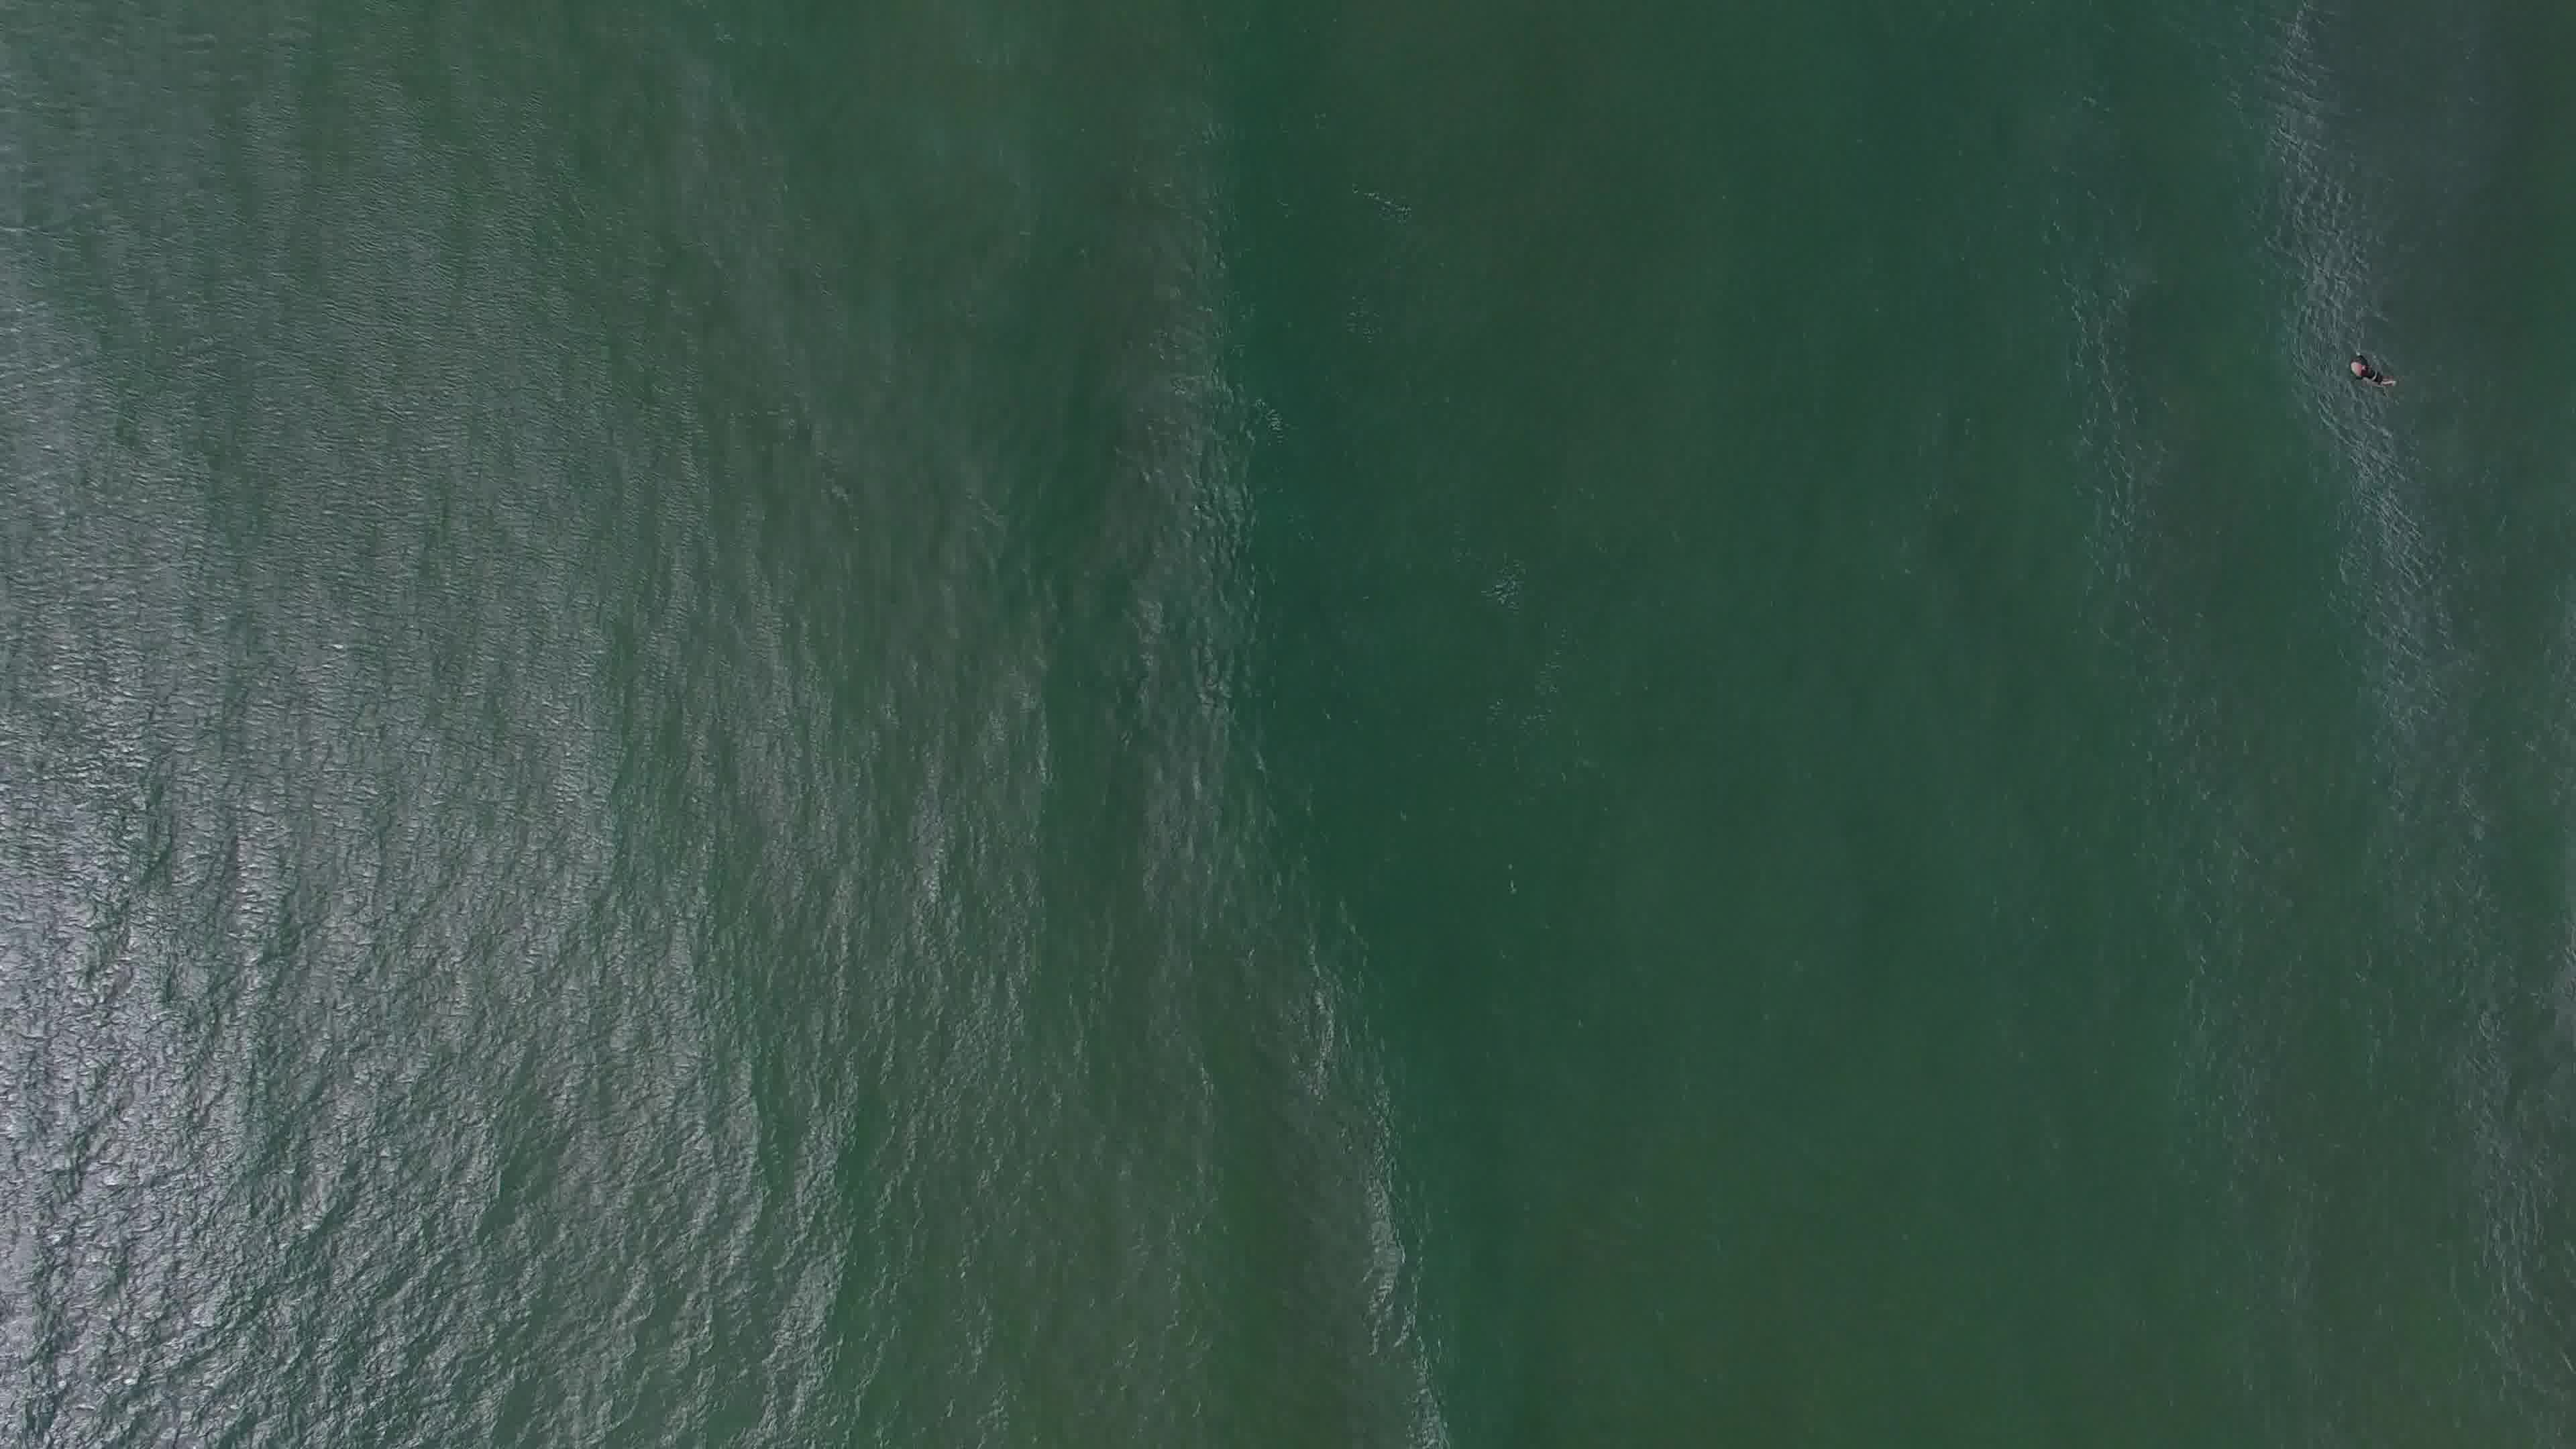surfer: (2342, 343, 2408, 402)
